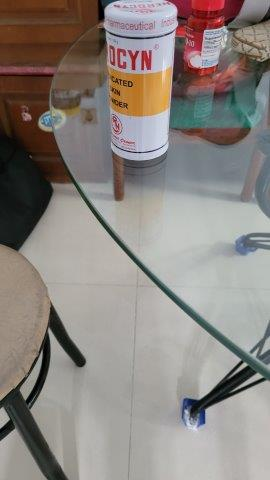kaleng: (105, 1, 178, 161)
